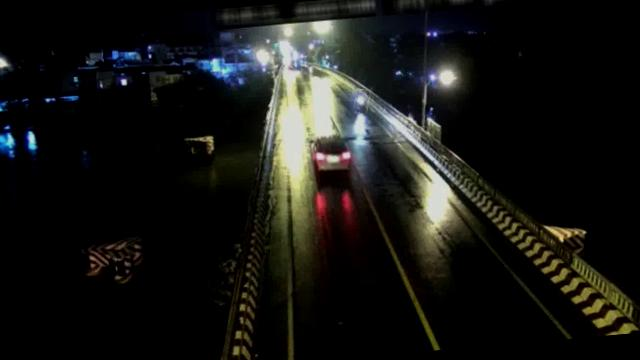Bike: (354, 88, 372, 114)
